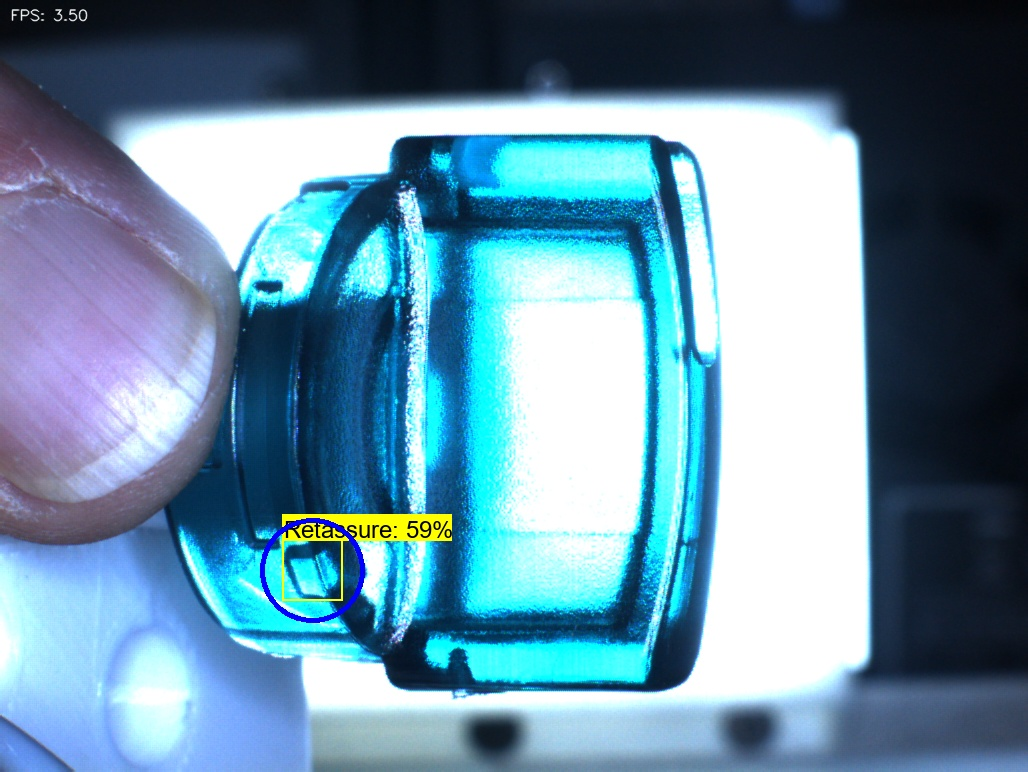Bulle: (419, 618, 508, 713)
